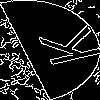K: (25, 25, 100, 71)
